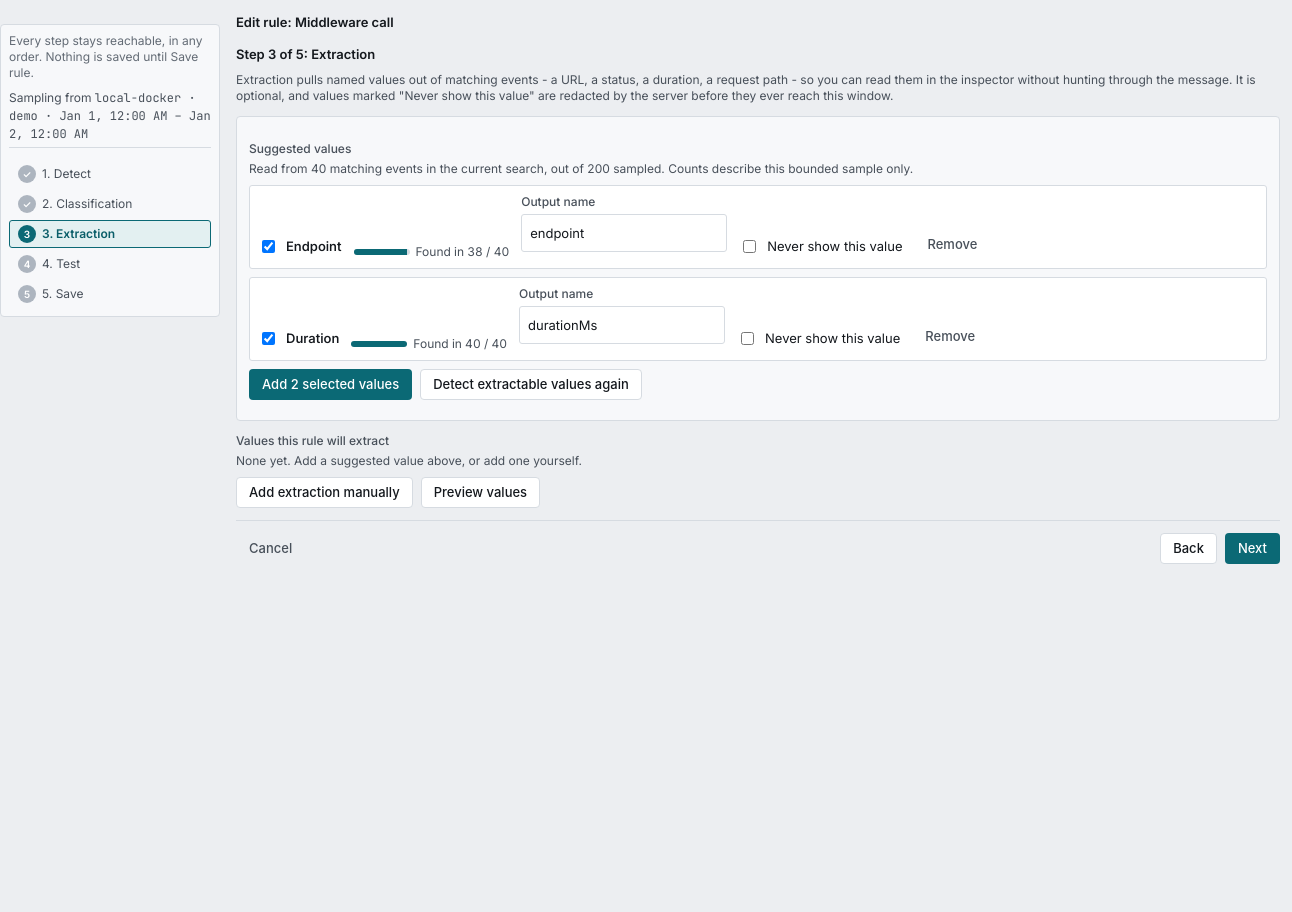
Test: RuleEditor - Preview values checks structure first (mission §18-§21) › a structurally valid draft advances to Test and runs it, exactly as before
Click the button "Add 2 selected values" at [331, 384], box [249, 369, 412, 400]
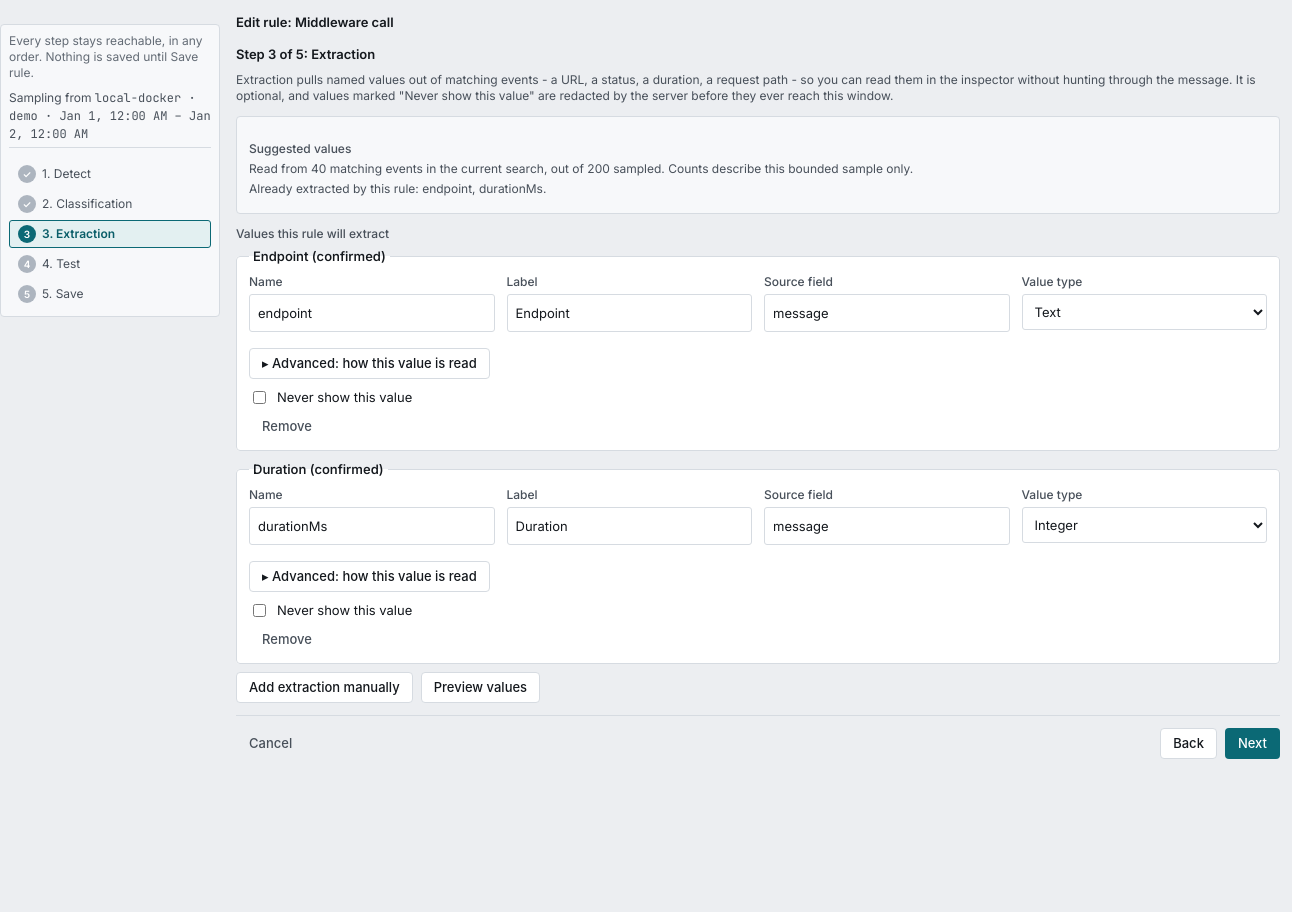
Click the button "Preview values" at [480, 688], box [421, 672, 540, 703]
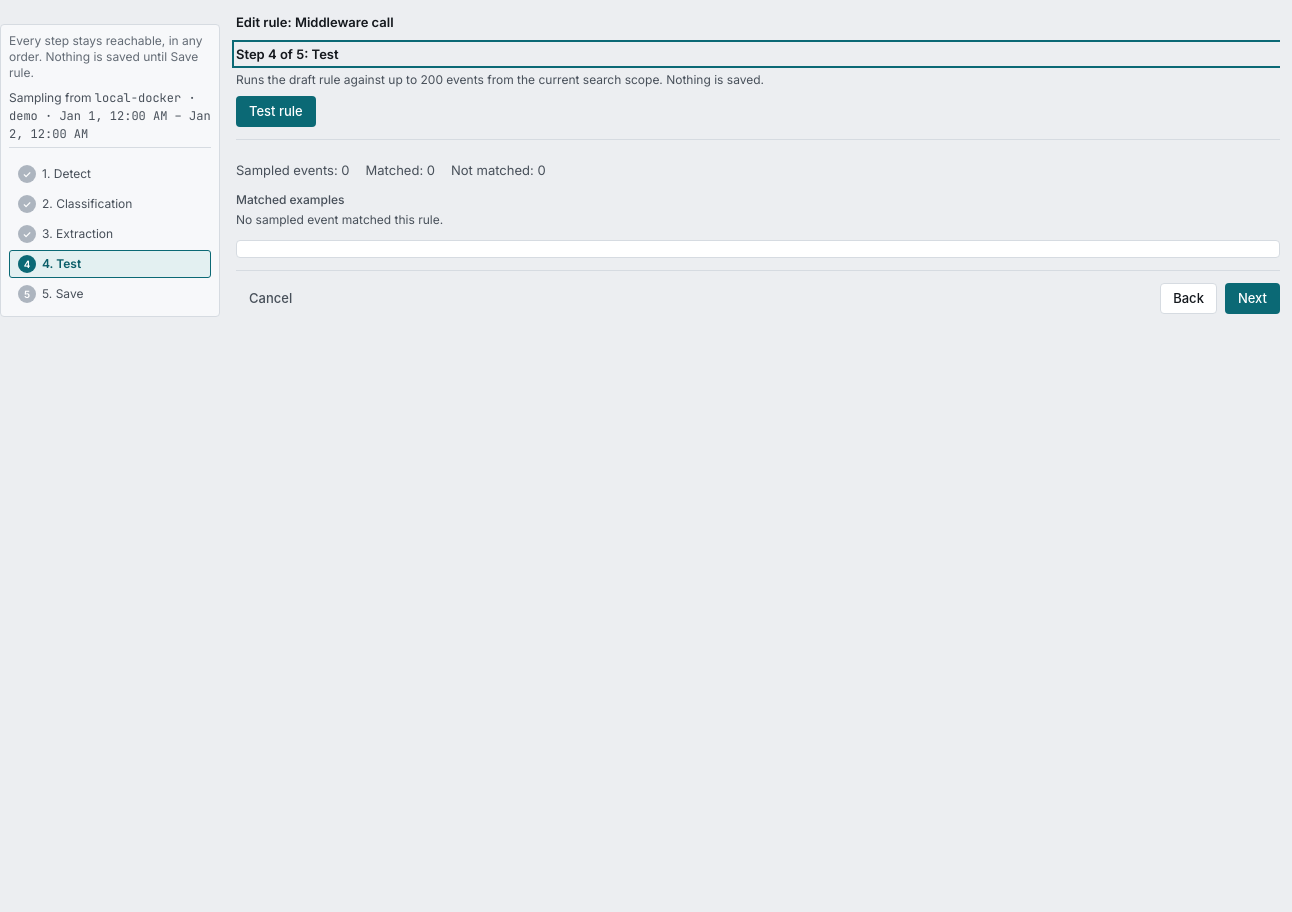
Check: the heading "Step 4 of 5: Test" is shown, box [236, 46, 339, 62]
